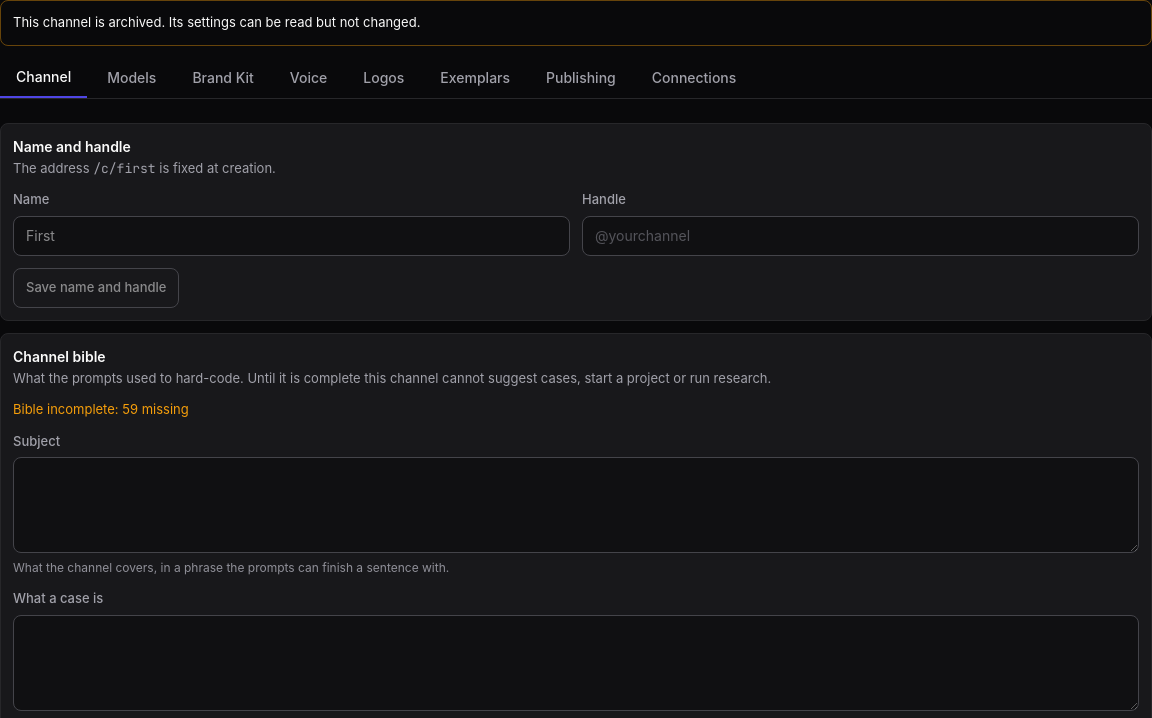
Test case: SettingsForm for an archived channel › disables the controls of the other tabs too, but keeps the tabs themselves usable
This screenshot has width=1152, height=718.
Click the tab "Publishing". click: point(581, 78)
box: [530,58,632,98]
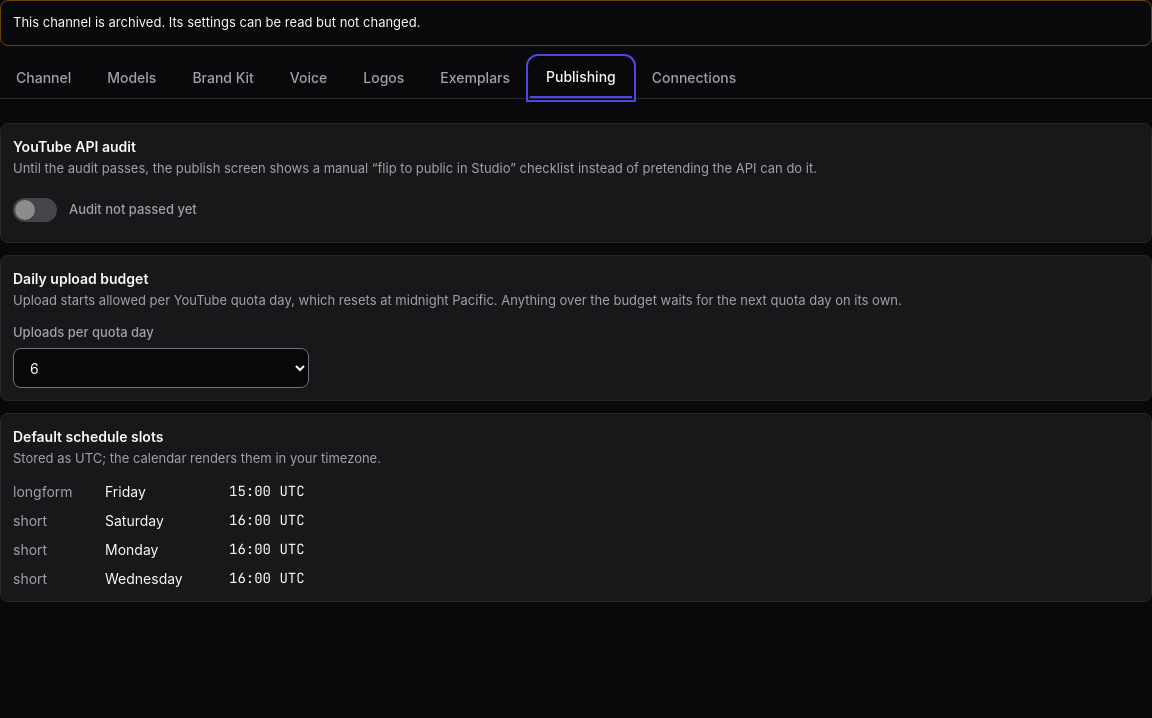
Expected: the tab "Models" is enabled, [91,58,172,98]
Expected: the dropdown labelled "Uploads per quota day" is disabled, [13,348,309,388]
